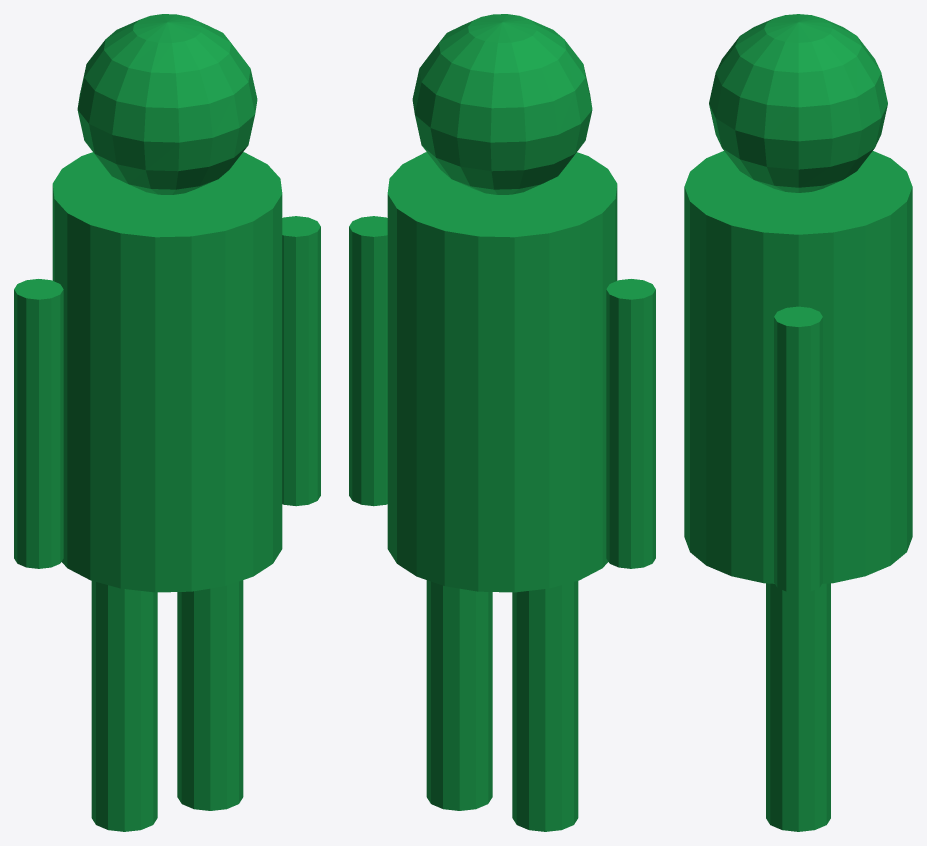
Rendered from player_home.obj.
3 views of the same model, side by side, from view 1: azimuth 30°, elevation 25°; view 2: azimuth 150°, elevation 25°; view 3: azimuth 270°, elevation 25° (orthographic).
Bounding box in the file's own units: 0.84 × 2.1 × 0.56.
